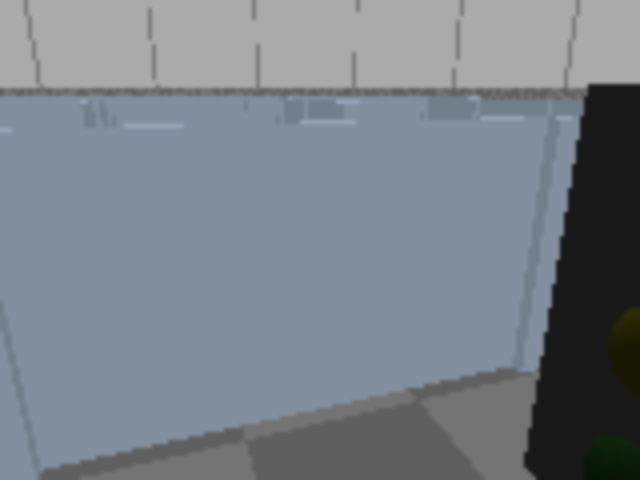traffic_light: (496, 0, 638, 478)
